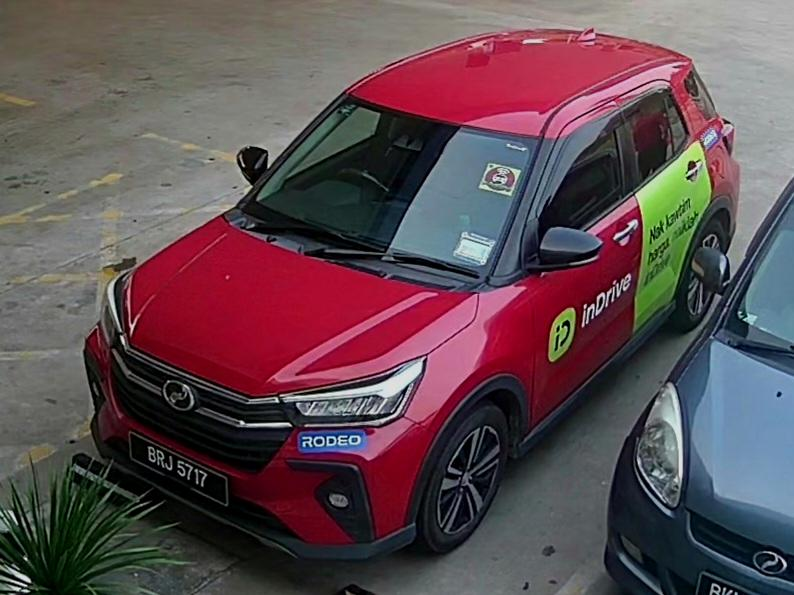License Plate: (132, 435, 230, 507)
